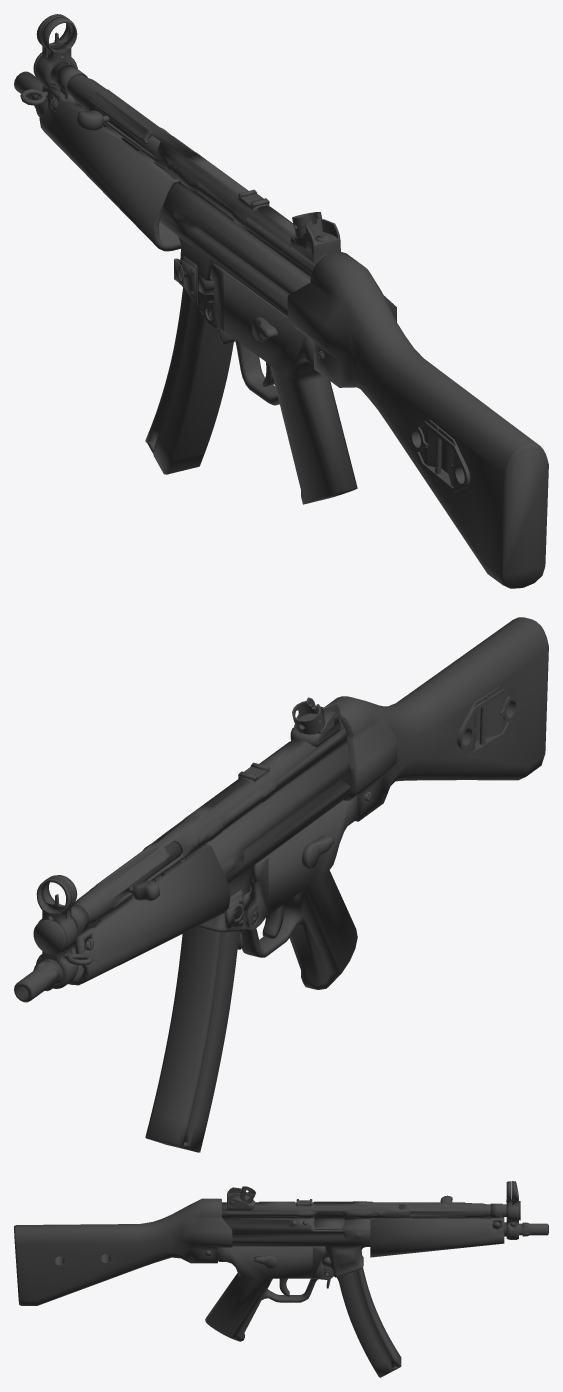
3 views of the same model, one above another, from view 1: azimuth 30°, elevation 25°; view 2: azimuth 150°, elevation 25°; view 3: azimuth 270°, elevation 25° (orthographic). The views are drawn at different scales.
Visible parts, largest first — view 1: SM_MP5_Receiver_2, SM_MP5_Magazine30r_8, SM_MP5_ChargingHandle_5; view 2: SM_MP5_Receiver_2, SM_MP5_Magazine30r_8, SM_MP5_ChargingHandle_5; view 3: SM_MP5_Receiver_2, SM_MP5_Magazine30r_8, SM_MP5_Chamber_4.
Boxes of the visible parts, bbox=[...] form: SM_MP5_Receiver_2: bbox=[14, 14, 548, 588]; SM_MP5_Magazine30r_8: bbox=[145, 288, 233, 474]; SM_MP5_ChargingHandle_5: bbox=[77, 110, 160, 156]; SM_MP5_Receiver_2: bbox=[14, 617, 548, 1002]; SM_MP5_Magazine30r_8: bbox=[145, 927, 240, 1152]; SM_MP5_ChargingHandle_5: bbox=[129, 842, 181, 900]; SM_MP5_Receiver_2: bbox=[14, 1181, 548, 1341]; SM_MP5_Magazine30r_8: bbox=[337, 1267, 401, 1377]; SM_MP5_Chamber_4: bbox=[314, 1212, 344, 1229].
Size of the model in its own units: 0.5255 by 2.31 by 5.85.
2 materials, 2 textured.
